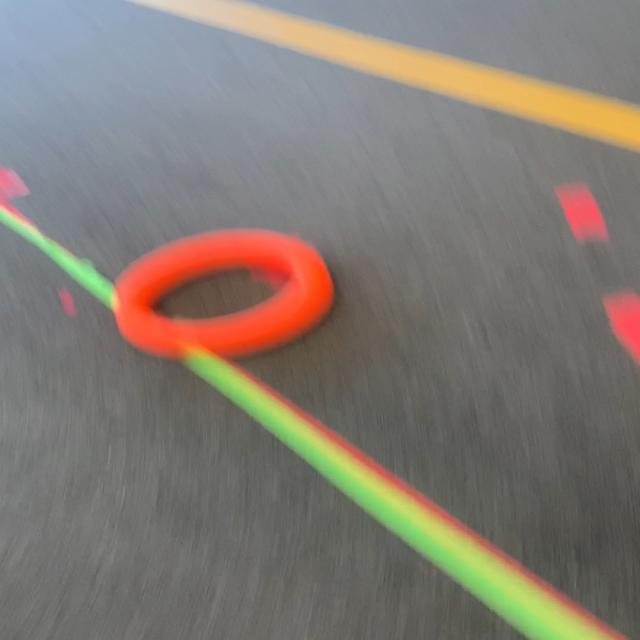notes: (115, 227, 334, 357)
